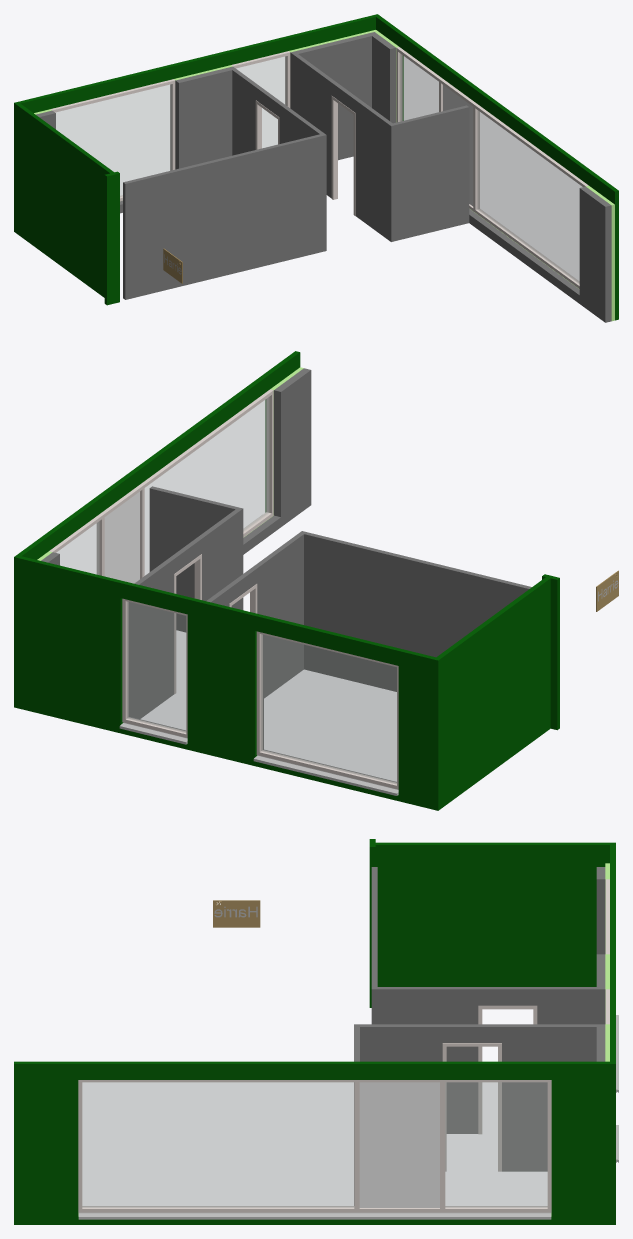
3 views of the same model, one above another, from view 1: azimuth 30°, elevation 25°; view 2: azimuth 150°, elevation 25°; view 3: azimuth 270°, elevation 25° (orthographic). The views are drawn at different scales.
Parts seen in each view (by area): view 1: Walls, System Panel, Rectangular Mullion, Walls.001; view 2: Walls, System Panel, Rectangular Mullion, NLRS_41_GM_WPB_waterslag RD50-90x160_vebo_ISR; view 3: Walls, System Panel, Rectangular Mullion, NLRS_41_GM_WPB_waterslag RD50-90x160_vebo_ISR, Walls.001.
Part boxes in pixels (x1,y1,x2,y2): Walls: (14, 14, 618, 322); System Panel: (56, 54, 581, 283); Rectangular Mullion: (50, 47, 588, 288); Walls.001: (163, 248, 182, 283); Walls: (14, 351, 559, 810); System Panel: (56, 397, 396, 784); Rectangular Mullion: (49, 389, 398, 789); NLRS_41_GM_WPB_waterslag RD50-90x160_vebo_ISR: (119, 515, 398, 795); Walls: (14, 839, 615, 1224); System Panel: (82, 1082, 547, 1207); Rectangular Mullion: (78, 879, 609, 1212); NLRS_41_GM_WPB_waterslag RD50-90x160_vebo_ISR: (78, 1015, 618, 1219); Walls.001: (213, 900, 260, 927).
Bounding box in the file's own units: 9.05 × 3 × 10.23.
